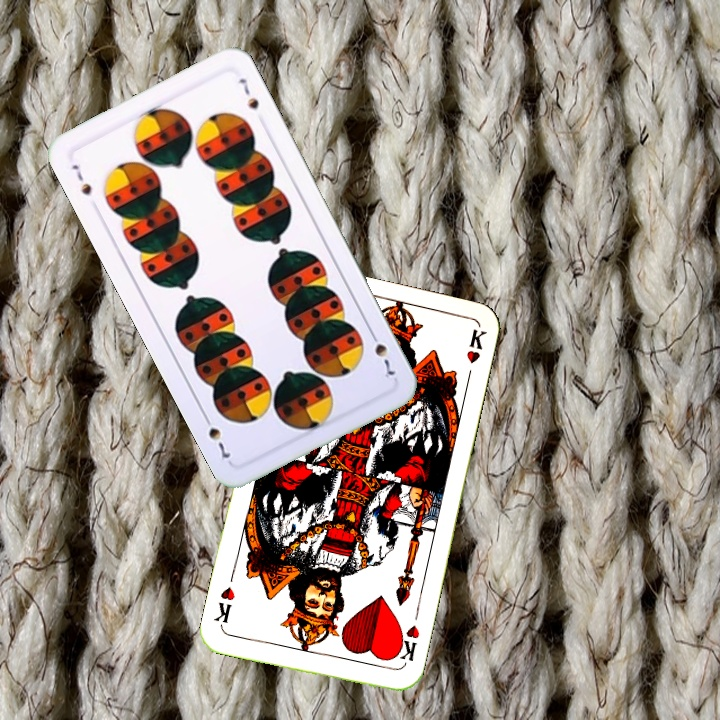HK: (390, 621, 422, 668)
S7: (365, 326, 398, 382), (67, 160, 95, 198)
